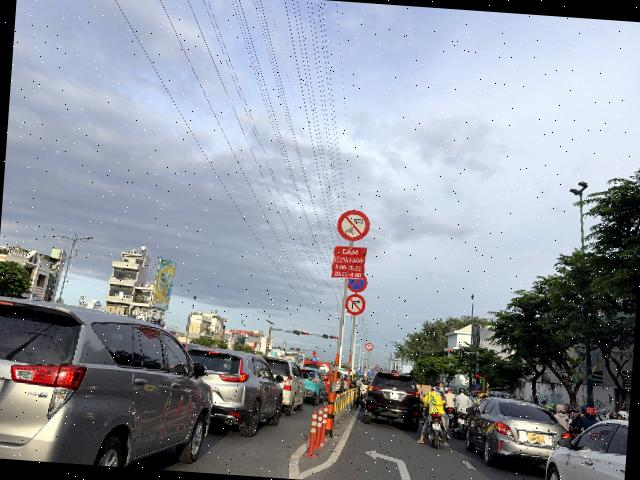cam-re-phai: (344, 292, 366, 316)
cam-xe-2-banh-3-banh: (336, 208, 372, 242)
